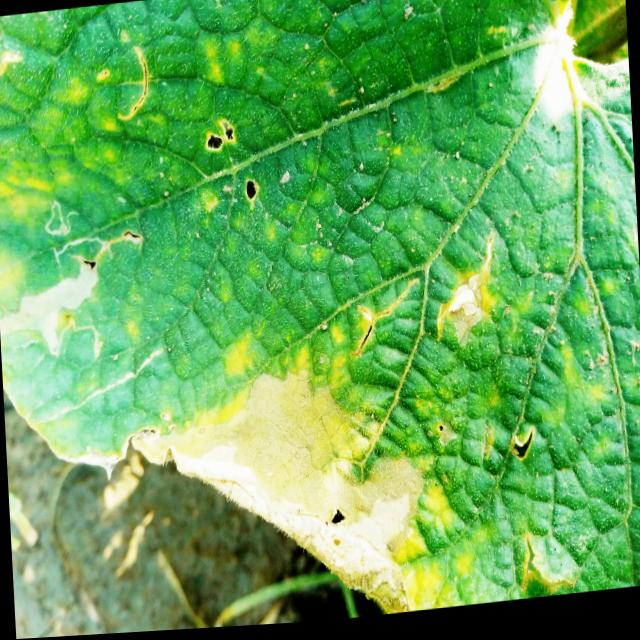Gummy-Stem-Blight: (132, 365, 428, 614)
